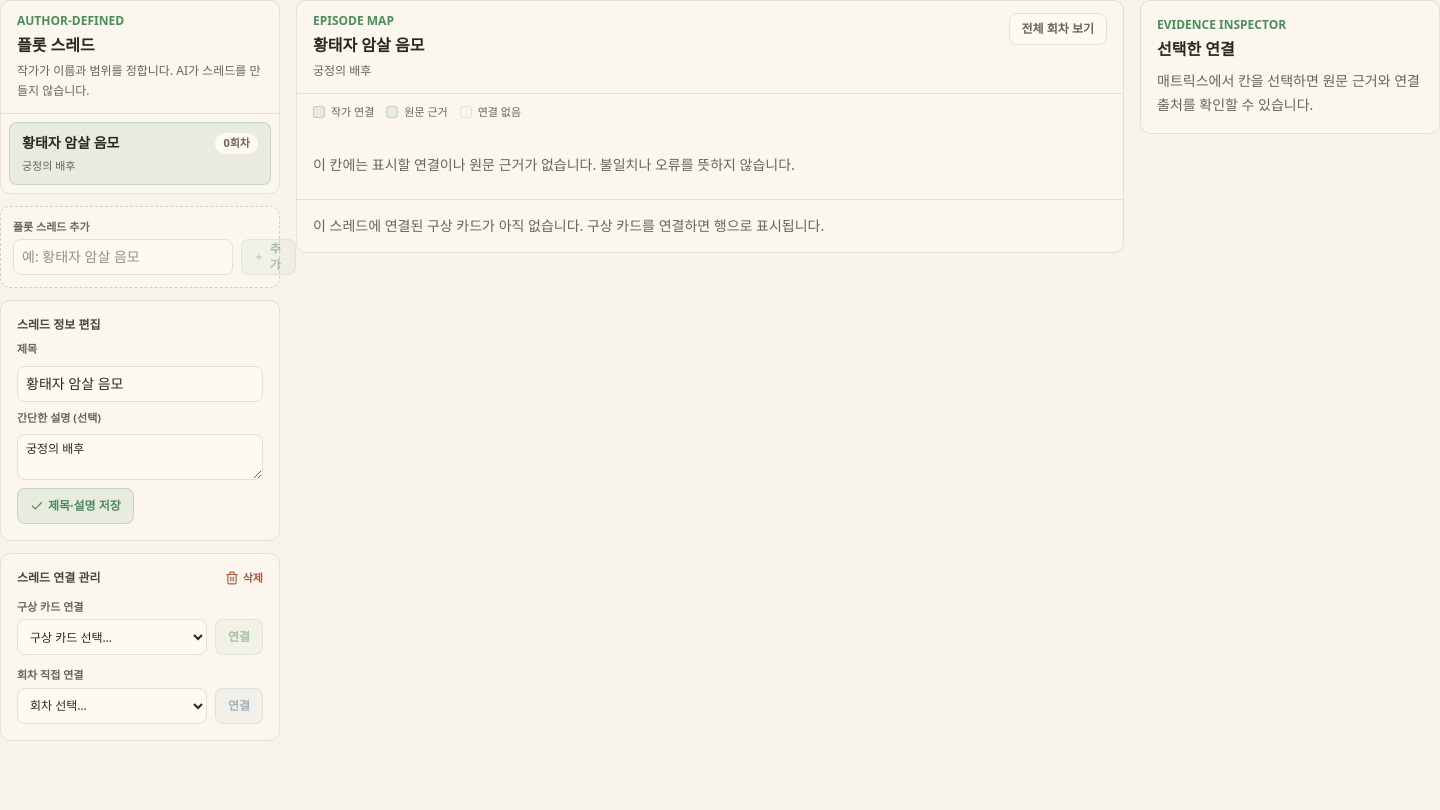
it: PlotThreadMatrixView — title/summary edit › shows an error notice when the action fails and does not refresh
The image size is (1440, 810).
What coordinates should you click on to do the following:
click the button "제목·설명 저장"
I would click on:
 (75, 506)
Its box is [17,488,134,524].
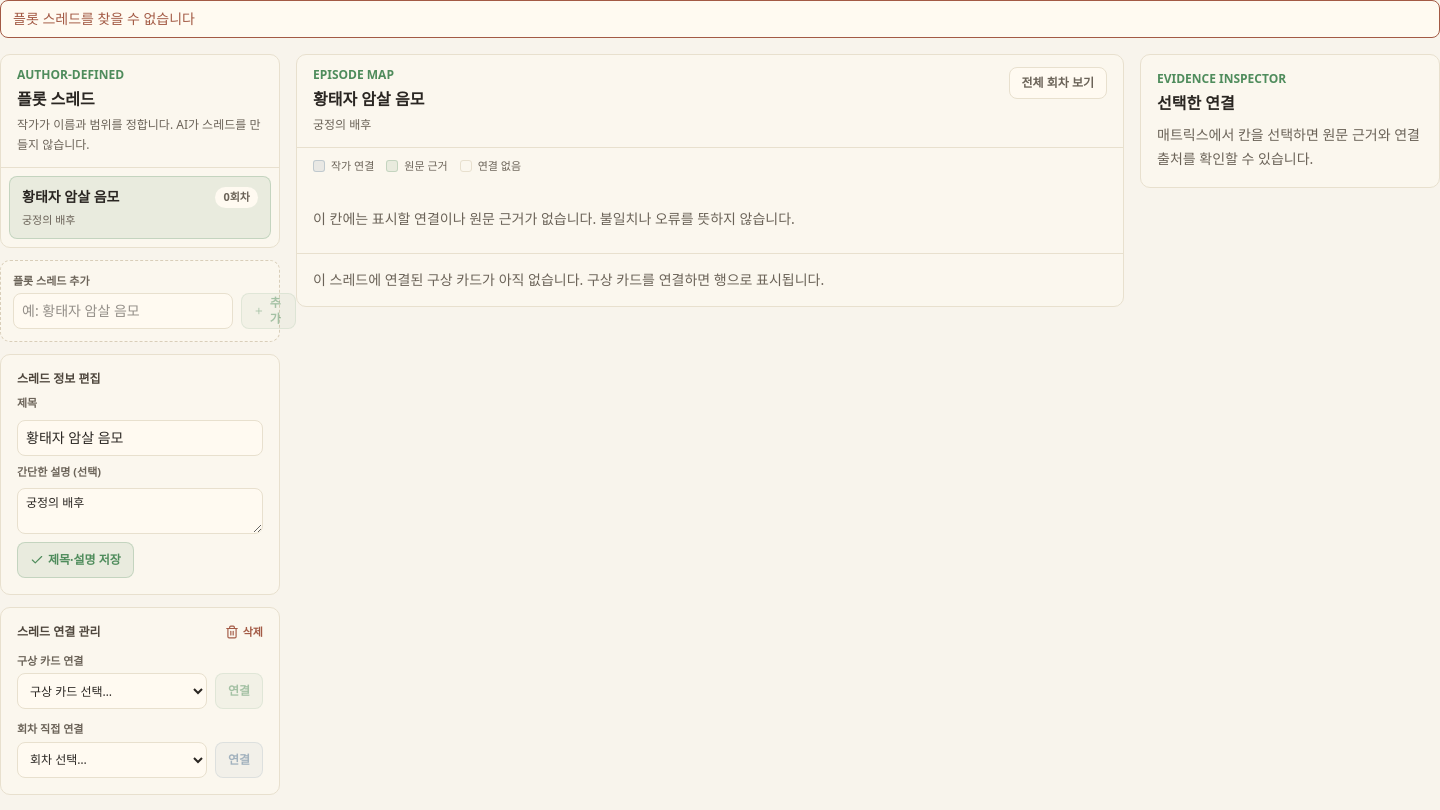
expect the message reads "플롯 스레드를 찾을 수 없습니다": met, box [13,9,195,28]
